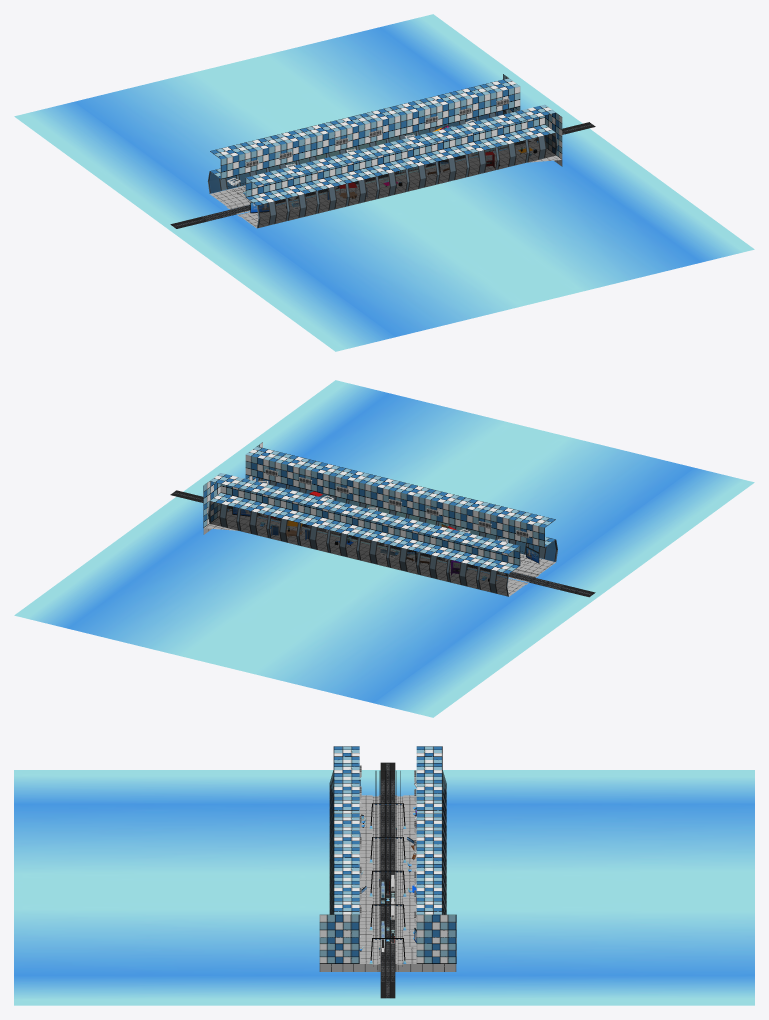
The model's file is subwaysurferstest70.glb.
The picture shows the model from 3 angles, top to bottom: view 1: azimuth 30°, elevation 25°; view 2: azimuth 150°, elevation 25°; view 3: azimuth 270°, elevation 25°; orthographic projection. The views are drawn at different scales.
Visible parts, largest first — view 1: Water, tiledwall.017, tiledwall.023, tiledwall.010, tiledwall.015, tiledwall.016, tiledwall.005, tiledwall.011, tiledwall.006, tiledwall.014, tiledwall, tiledwall.003 (+19 smaller); view 2: Water, tiledwall.023, tiledwall.020, tiledwall.007, tiledwall.012, tiledwall.009, tiledwall.019, tiledwall.013, tiledwall.018, tiledwall.021, tiledwall.022, tiledwall.017 (+19 smaller); view 3: Water, tiledwall.004, tiledwall.008, tiledwall.002, tiledwall.001, tile.015, tile.003, ElectricityPole.002, tiledwall, tiledwall.010, tiledwall.014, tiledwall.007 (+20 smaller).
Boxes of the visible parts, left/top/right/bottom form: Water: left=14, top=14, right=754, bottom=351; tiledwall.017: left=245, top=170, right=286, bottom=205; tiledwall.023: left=210, top=144, right=250, bottom=179; tiledwall.010: left=395, top=134, right=435, bottom=169; tiledwall.015: left=305, top=155, right=346, bottom=190; tiledwall.016: left=275, top=163, right=316, bottom=198; tiledwall.005: left=455, top=119, right=495, bottom=154; tiledwall.011: left=365, top=141, right=405, bottom=176; tiledwall.006: left=425, top=126, right=465, bottom=161; tiledwall.014: left=335, top=148, right=375, bottom=183; tiledwall: left=515, top=104, right=555, bottom=139; tiledwall.003: left=485, top=112, right=525, bottom=147; Water: left=14, top=380, right=754, bottom=717; tiledwall.023: left=479, top=538, right=520, bottom=573; tiledwall.020: left=389, top=516, right=430, bottom=551; tiledwall.007: left=210, top=473, right=250, bottom=508; tiledwall.012: left=270, top=487, right=310, bottom=522; tiledwall.009: left=240, top=480, right=280, bottom=515; tiledwall.019: left=359, top=509, right=400, bottom=544; tiledwall.013: left=300, top=495, right=340, bottom=530; tiledwall.018: left=330, top=502, right=370, bottom=537; tiledwall.021: left=419, top=524, right=460, bottom=559; tiledwall.022: left=449, top=531, right=490, bottom=566; tiledwall.017: left=515, top=512, right=555, bottom=547; Water: left=14, top=770, right=754, bottom=1005; tiledwall.004: left=319, top=937, right=359, bottom=963; tiledwall.008: left=416, top=937, right=456, bottom=963; tiledwall.002: left=416, top=914, right=456, bottom=937; tiledwall.001: left=319, top=914, right=359, bottom=937; tile.015: left=403, top=947, right=456, bottom=971; tile.003: left=319, top=947, right=372, bottom=971; ElectricityPole.002: left=369, top=838, right=406, bottom=896; tiledwall: left=333, top=897, right=359, bottom=914; tiledwall.010: left=333, top=830, right=359, bottom=847; tiledwall.014: left=333, top=796, right=359, bottom=813; tiledwall.007: left=416, top=897, right=442, bottom=914.
Bounding box in the file's own units: 562 × 67.5 × 744.
7 materials, 7 textured.
